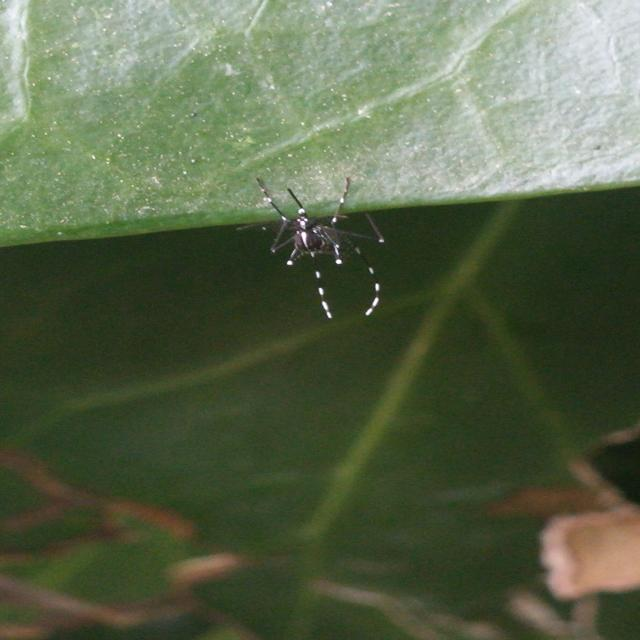albopictus: (222, 172, 419, 318)
